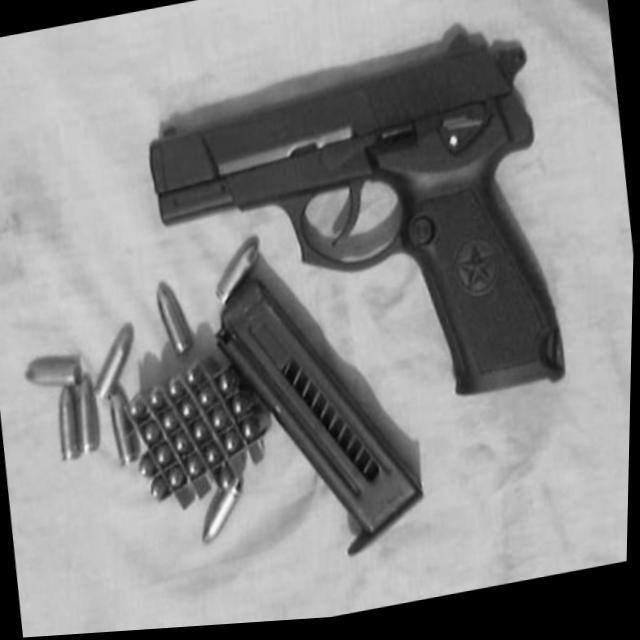weapon: (133, 13, 574, 457)
